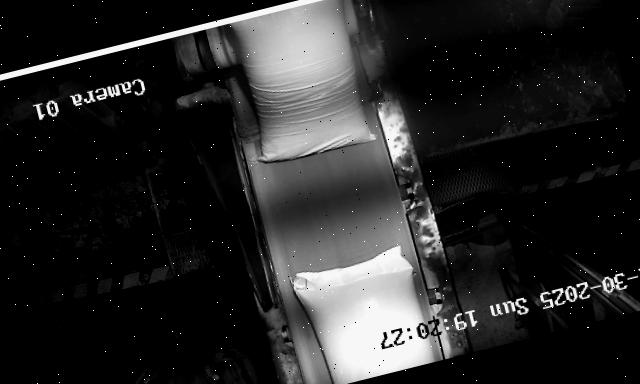bag: (224, 0, 375, 167), (287, 242, 434, 384)
